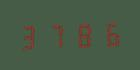eight: (70, 19, 95, 49)
seven: (44, 20, 69, 50)
six: (96, 19, 121, 48)
three: (18, 21, 43, 50)
